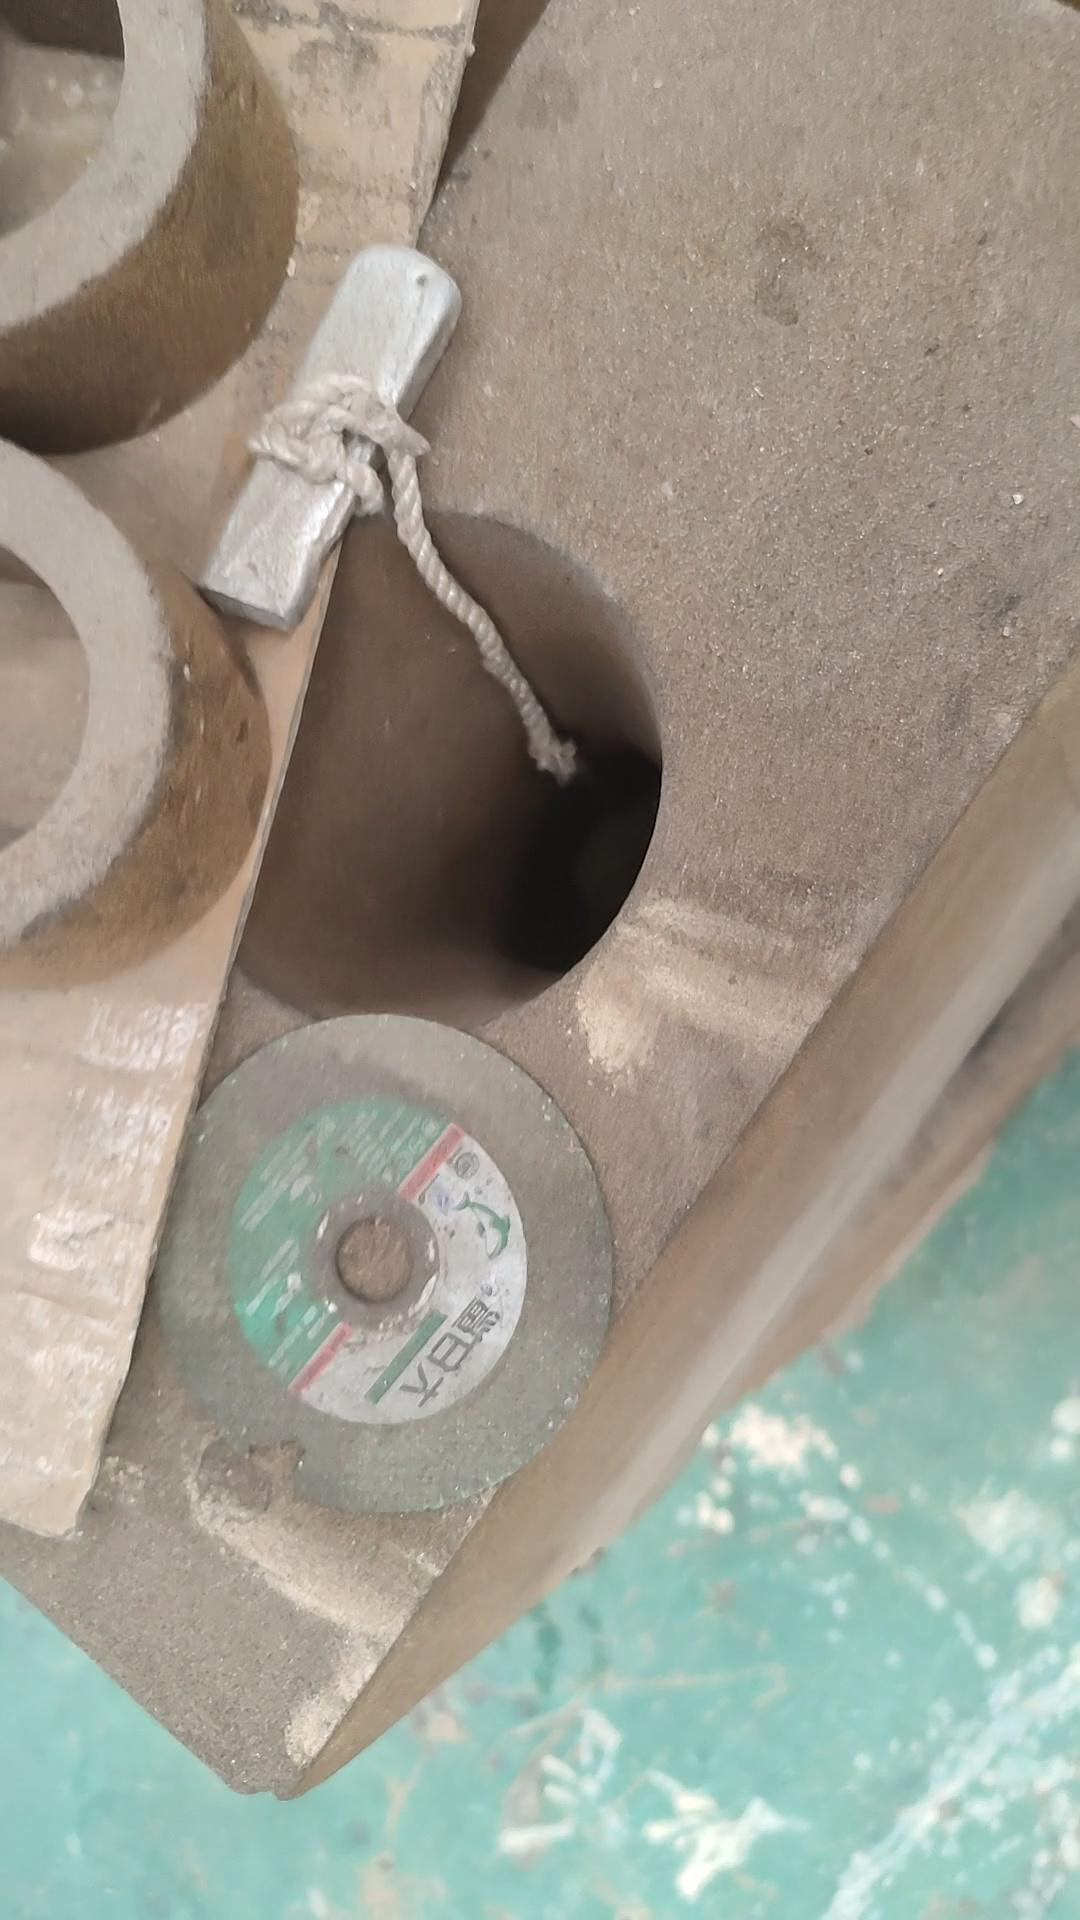pouring hole: (194, 508, 667, 1034)
